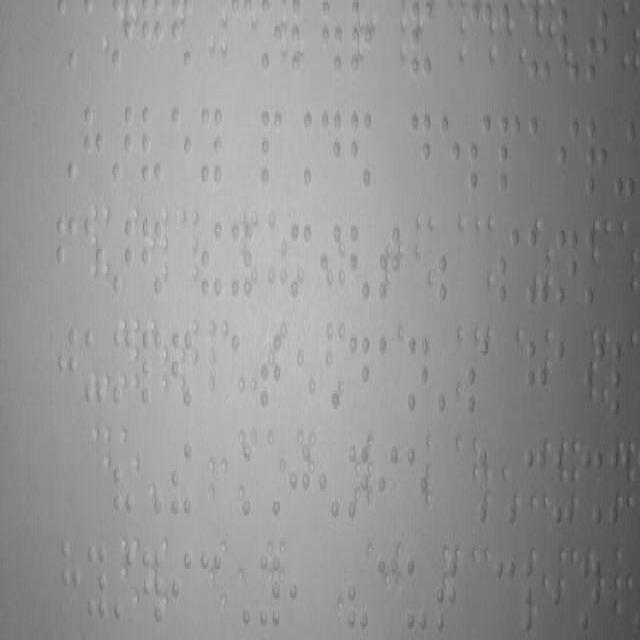braiile: (136, 93, 168, 191), (52, 205, 80, 312), (82, 98, 110, 192), (197, 101, 225, 192), (168, 101, 196, 192), (584, 0, 612, 89), (554, 336, 582, 424), (498, 108, 526, 194), (468, 112, 496, 198), (556, 111, 580, 209), (498, 220, 522, 309), (610, 338, 634, 427), (494, 551, 518, 640), (584, 119, 610, 201), (260, 108, 286, 190), (407, 552, 431, 639), (139, 331, 165, 411), (528, 112, 552, 198), (554, 222, 578, 307), (439, 114, 463, 198), (406, 334, 430, 416), (578, 557, 602, 639), (349, 333, 371, 422), (411, 111, 434, 196), (320, 109, 344, 189), (378, 336, 402, 416), (172, 546, 196, 626), (142, 1, 166, 79), (377, 440, 399, 524), (466, 340, 490, 416), (528, 337, 548, 428), (405, 444, 427, 526), (59, 322, 81, 402), (290, 440, 312, 520), (85, 544, 108, 620), (230, 1, 252, 79), (62, 539, 82, 621), (260, 1, 282, 75)
